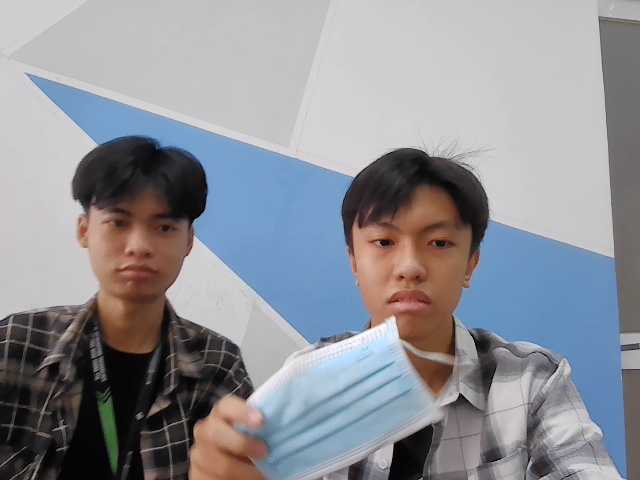human: (333, 146, 497, 329), (70, 137, 203, 300)
mask: (223, 318, 446, 480)
